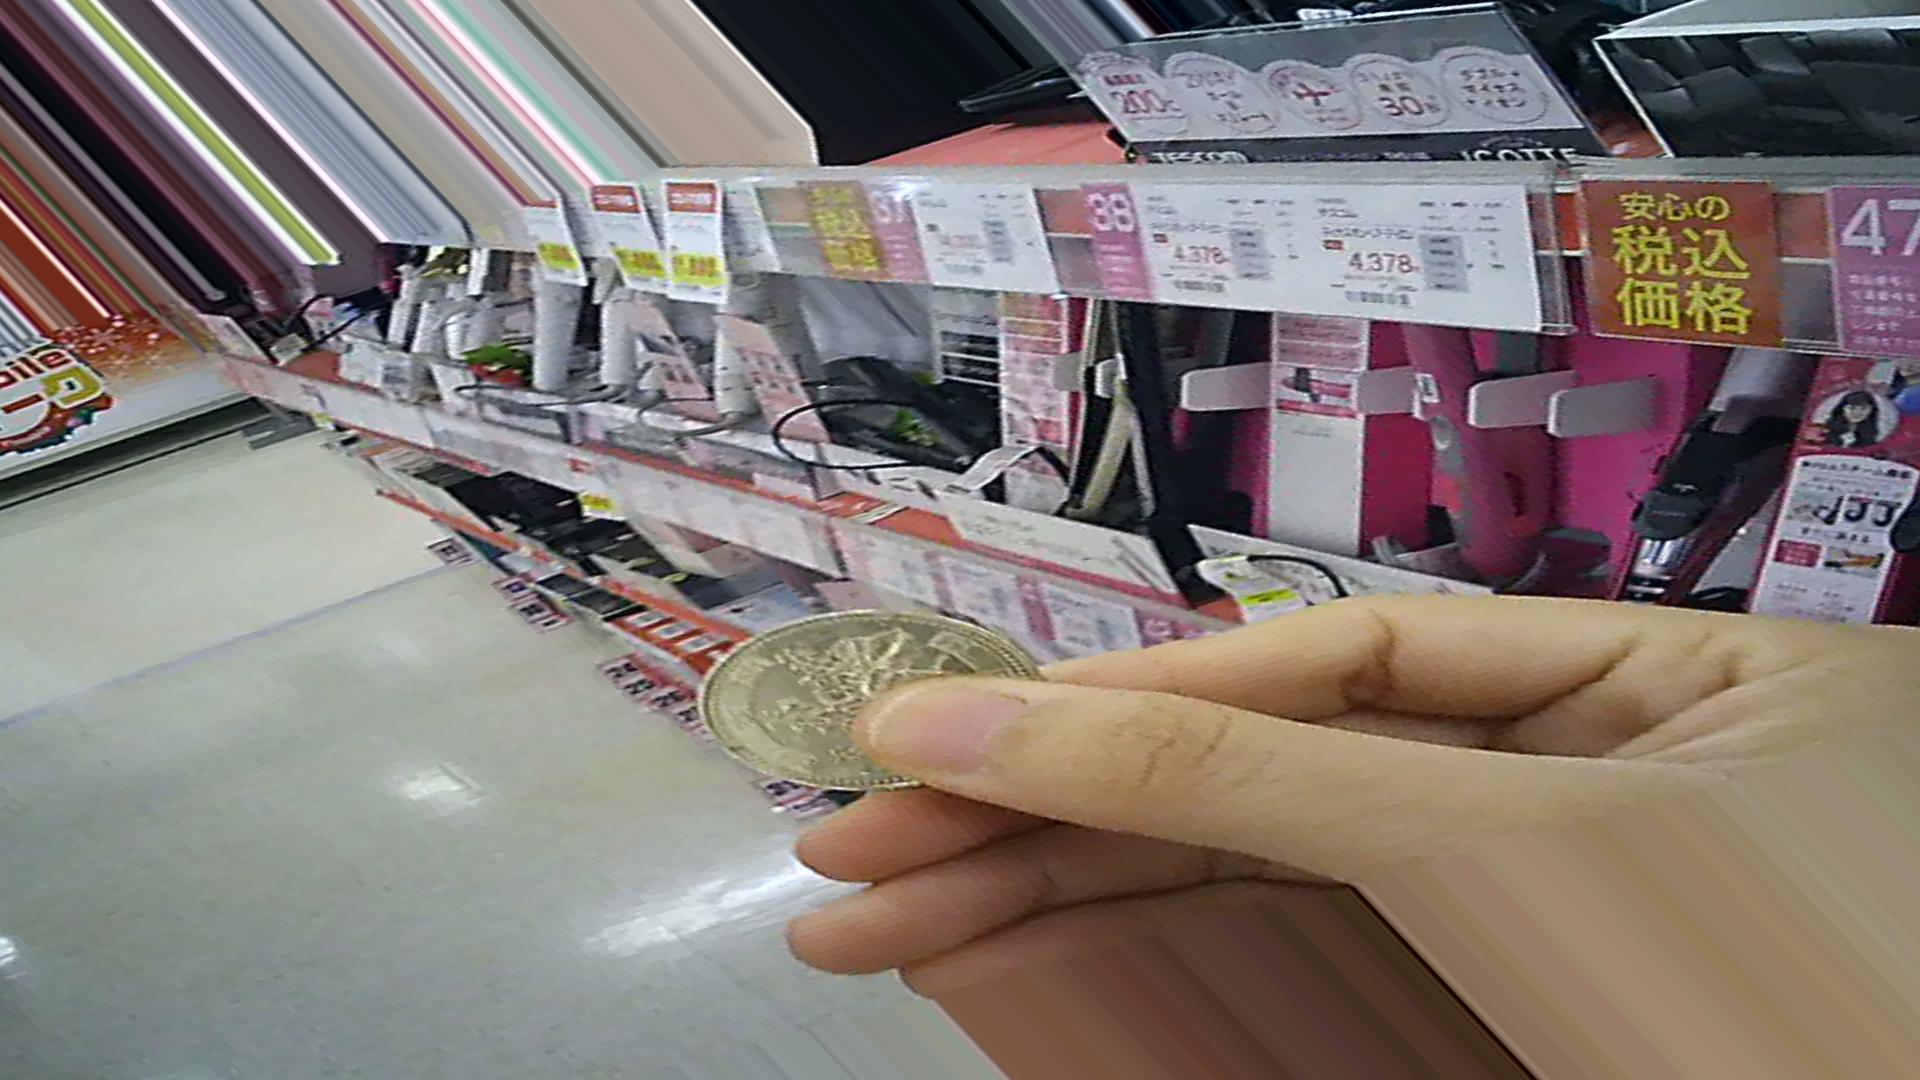500 Yen: (698, 618, 1054, 806)
